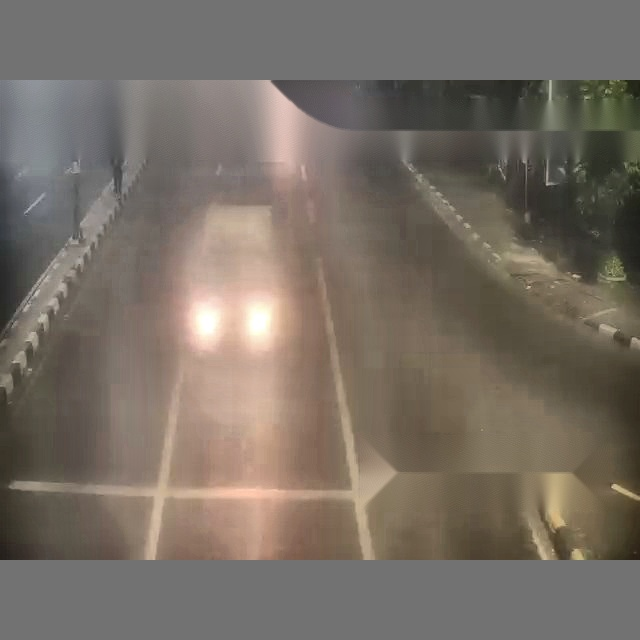Motor: (194, 302, 222, 352)
Truk: (187, 49, 639, 557)
